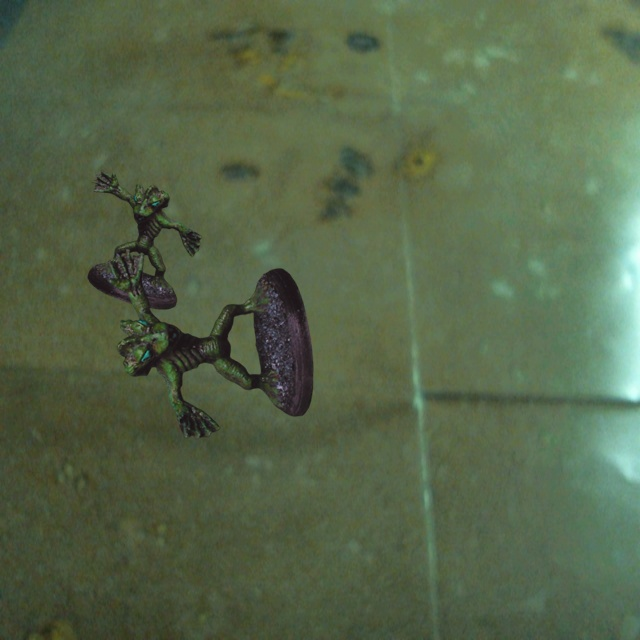pieza_juego: (108, 249, 313, 438), (87, 170, 201, 309)
